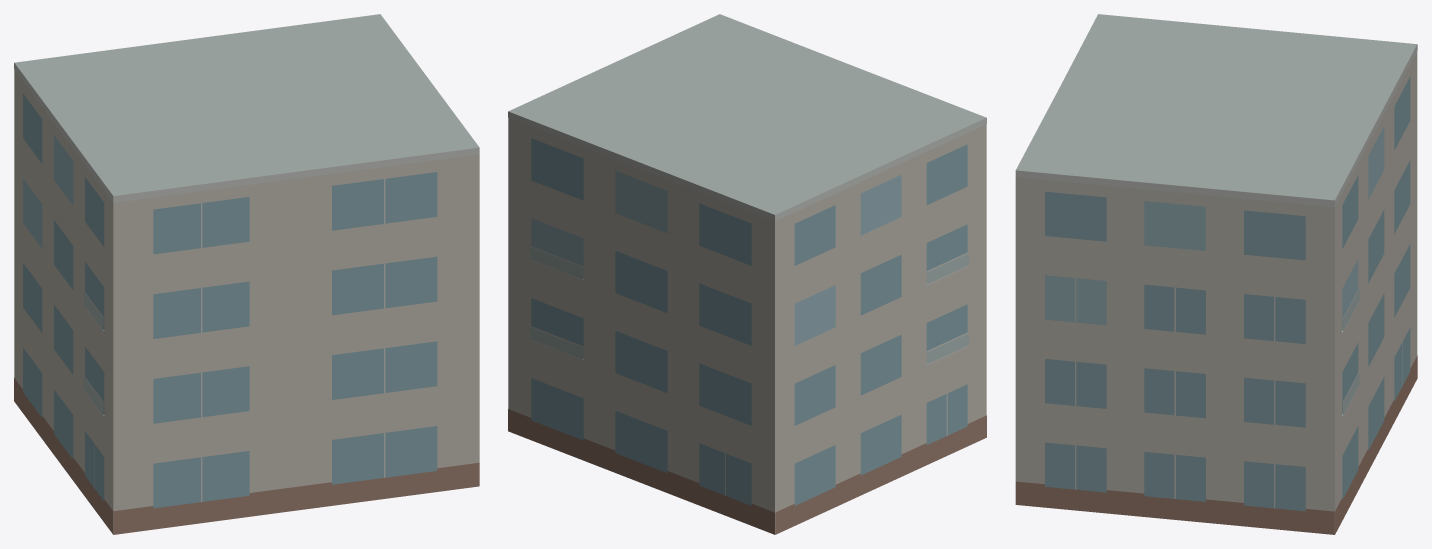
Rendered from residential-43b80c1a-fa43-4f6c-b3fb-fa6651506fe5.glb.
3 views of the same model, side by side, from view 1: azimuth 30°, elevation 25°; view 2: azimuth 150°, elevation 25°; view 3: azimuth 270°, elevation 25° (orthographic). The views are drawn at different scales.
Parts seen in each view (by area): view 1: residential-43b80c1a-fa43-4f6c-b3fb-fa6651506fe5.tmp; view 2: residential-43b80c1a-fa43-4f6c-b3fb-fa6651506fe5.tmp; view 3: residential-43b80c1a-fa43-4f6c-b3fb-fa6651506fe5.tmp.
Part boxes in pixels (x1,y1,x2,y2): residential-43b80c1a-fa43-4f6c-b3fb-fa6651506fe5.tmp: [14, 14, 479, 534]; residential-43b80c1a-fa43-4f6c-b3fb-fa6651506fe5.tmp: [508, 14, 986, 534]; residential-43b80c1a-fa43-4f6c-b3fb-fa6651506fe5.tmp: [1015, 14, 1417, 534].
Bounding box in the file's own units: 14.59 × 12.2 × 13.29.
